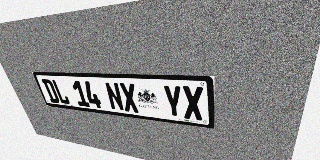1: (70, 80, 90, 107)
4: (82, 81, 102, 108)
D: (41, 79, 60, 103)
L: (51, 79, 71, 105)
N: (104, 82, 125, 111)
X: (182, 86, 204, 121), (119, 83, 140, 113)
Y: (162, 85, 184, 118)
